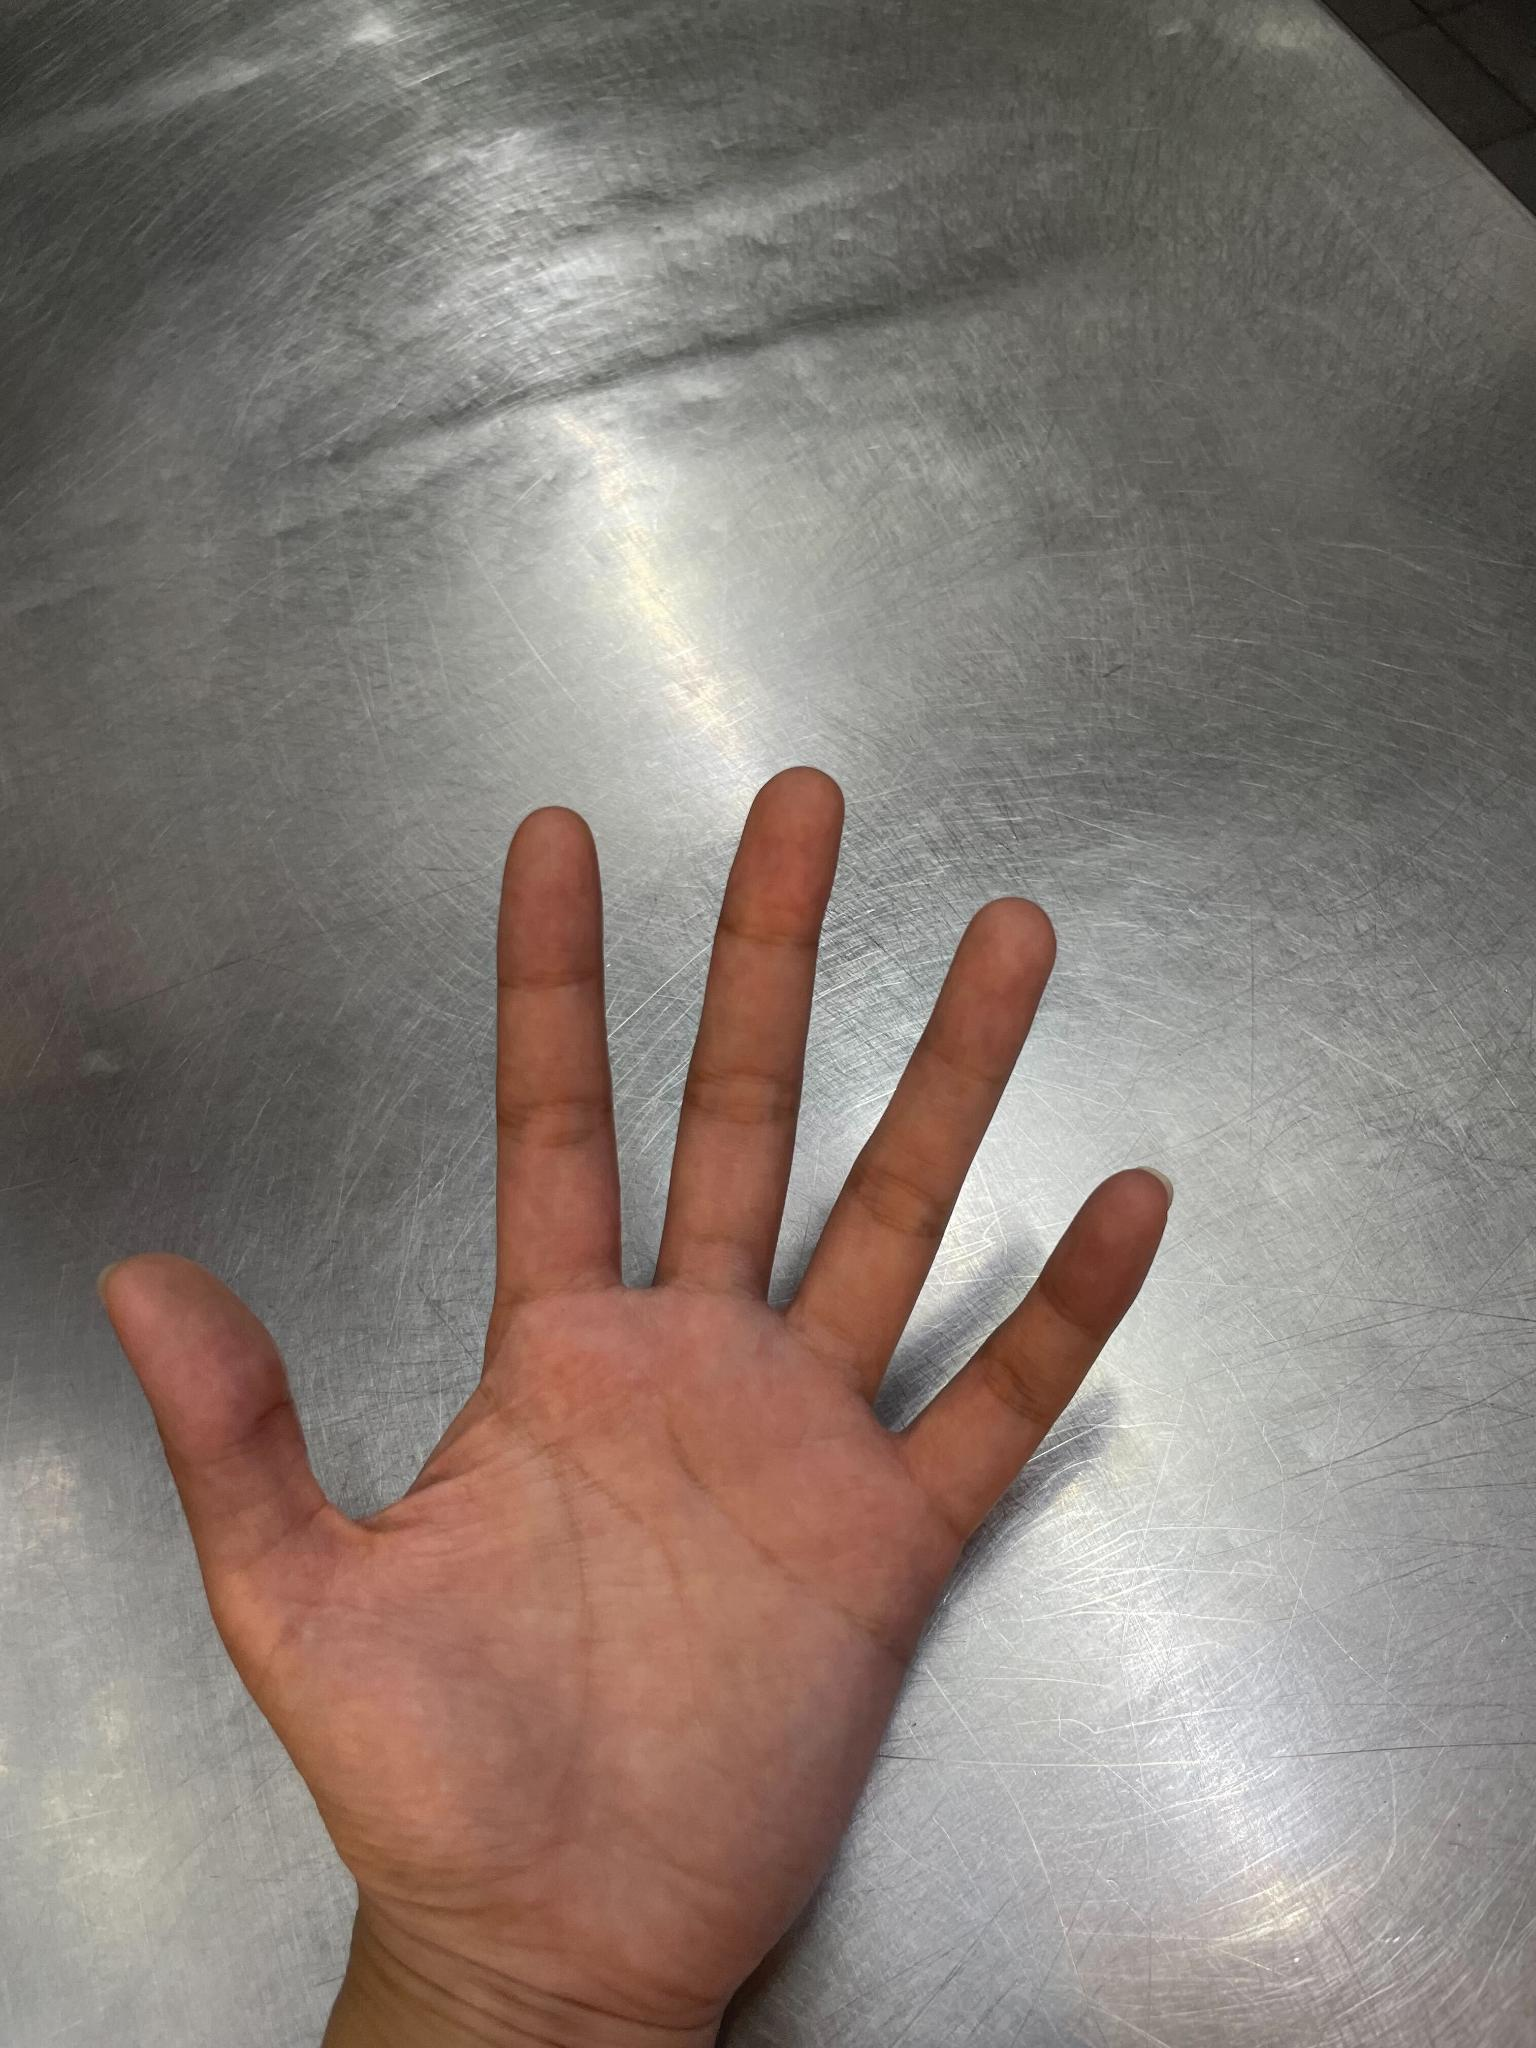open: (102, 755, 1210, 2048)
